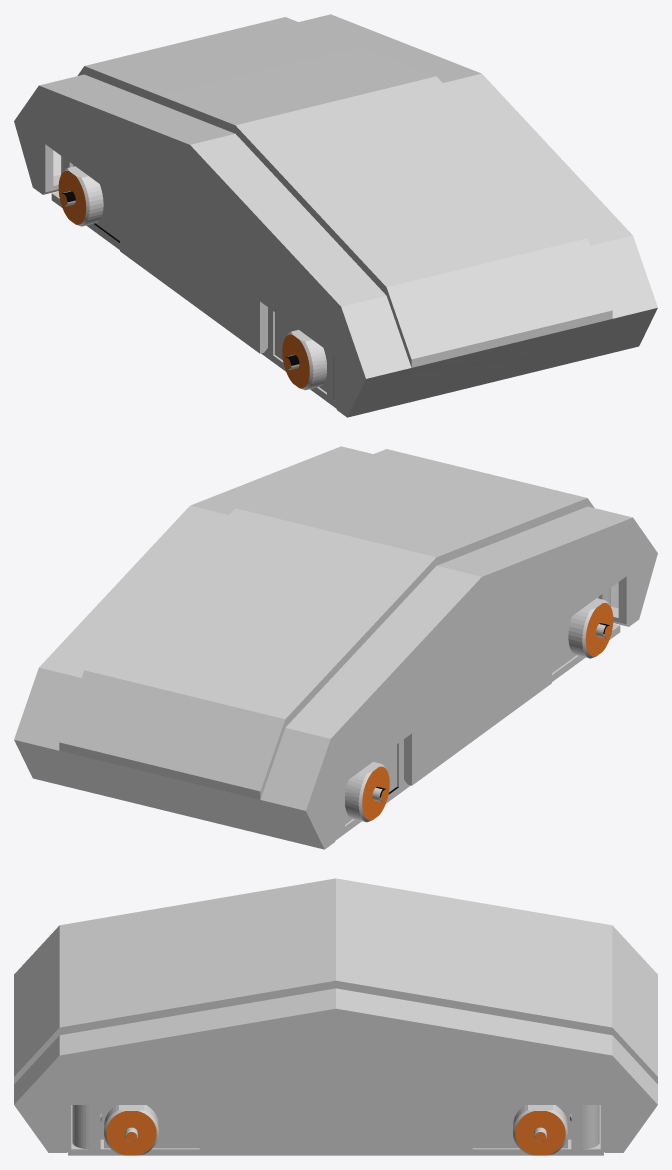
File: nanotorso.3mf.obj
3 renders of one model, top to bottom at view 1: azimuth 30°, elevation 25°; view 2: azimuth 150°, elevation 25°; view 3: azimuth 270°, elevation 25°, orthographic. The views are drawn at different scales.
Visible parts, largest first — view 1: Object.1, Object.3; view 2: Object.1, Object.3; view 3: Object.1, Object.3.
Boxes of the visible parts, <box> form: Object.1: <box>14,14,657,417</box>; Object.3: <box>51,156,336,408</box>; Object.1: <box>14,446,657,849</box>; Object.3: <box>335,588,620,840</box>; Object.1: <box>14,878,657,1152</box>; Object.3: <box>68,1105,603,1155</box>.
Size of the model in its own units: 79.51 by 41.15 by 152.
